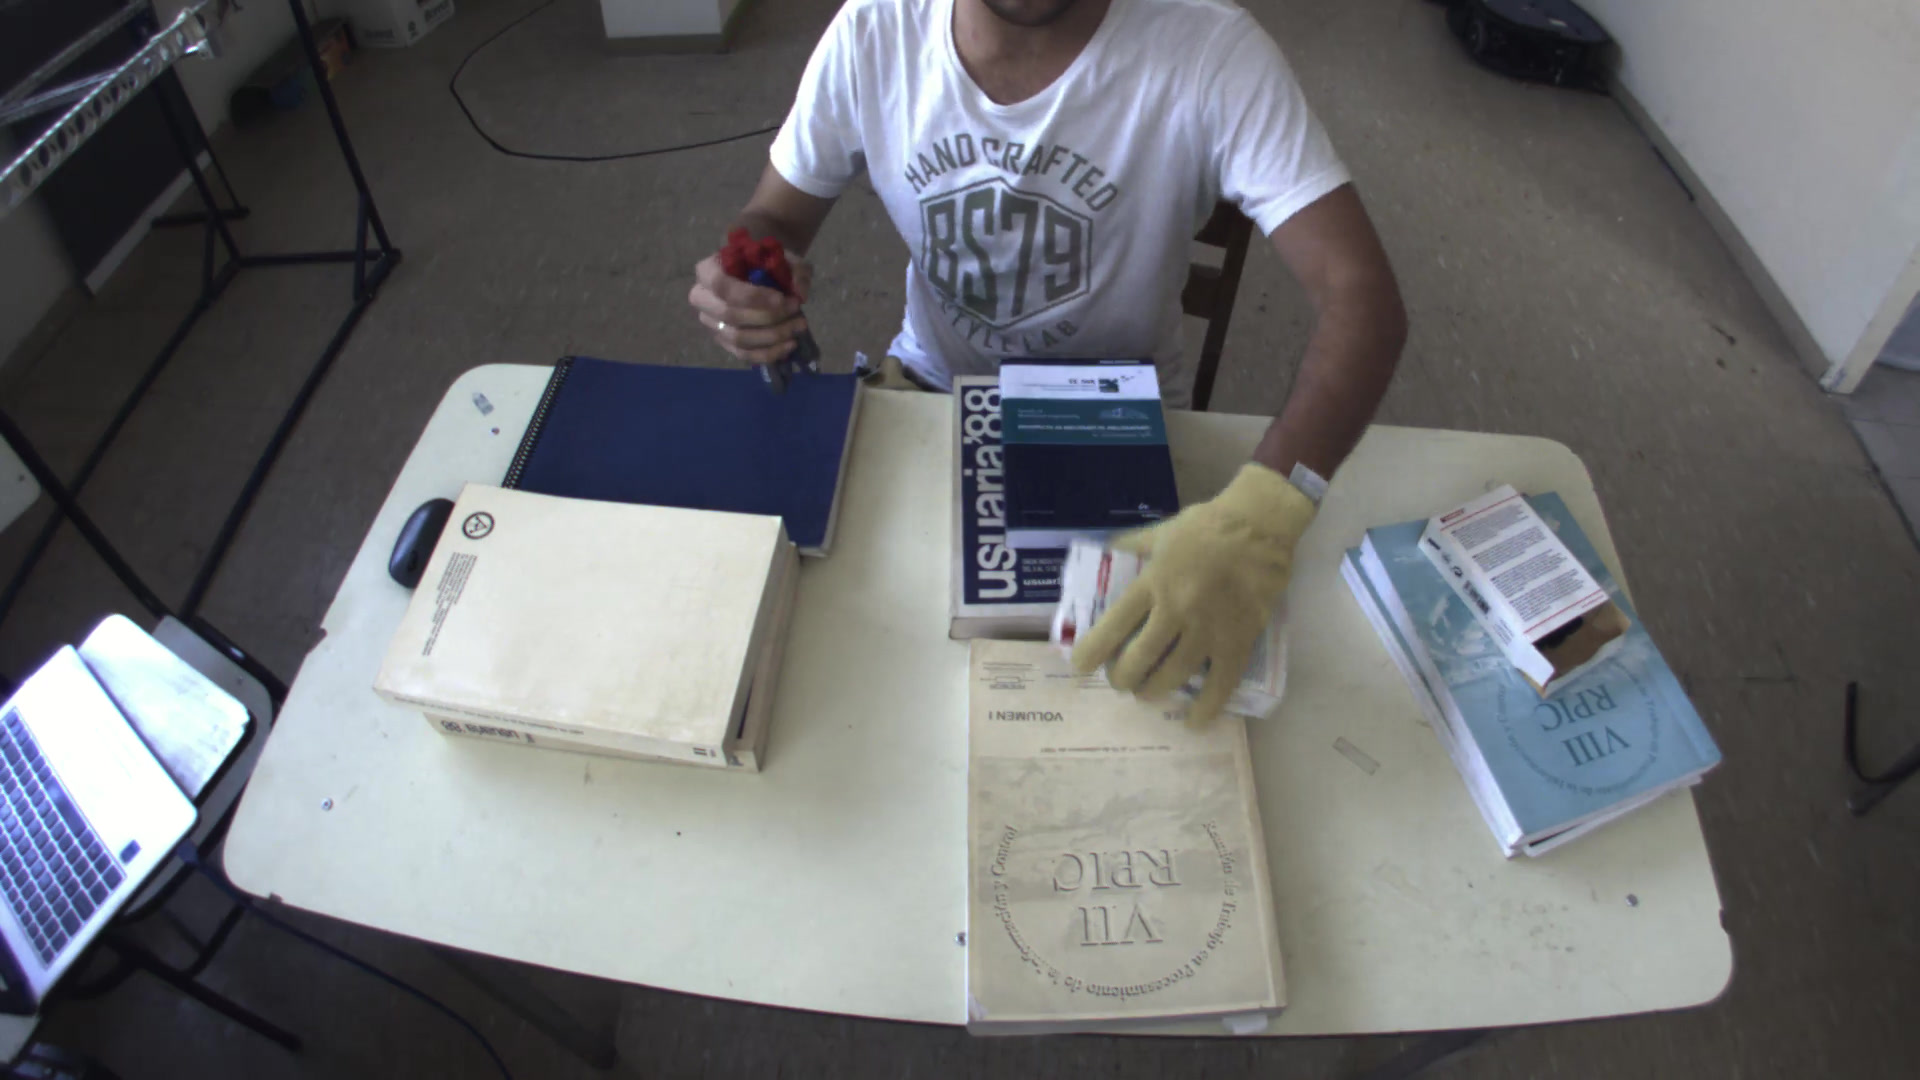hand: (1058, 464, 1331, 729), (676, 228, 825, 385)
